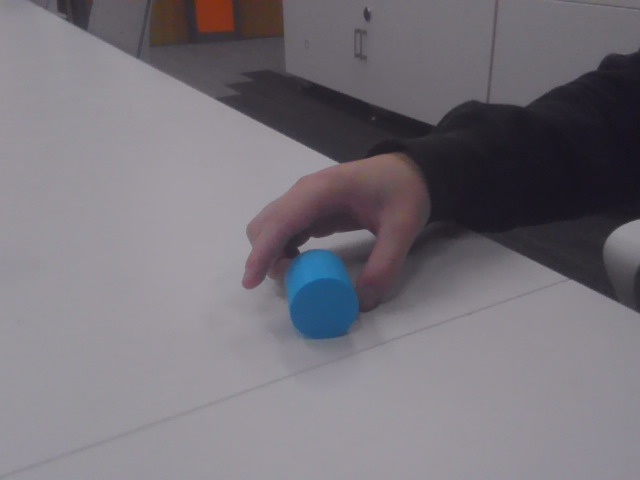cylinder: (286, 249, 359, 340)
